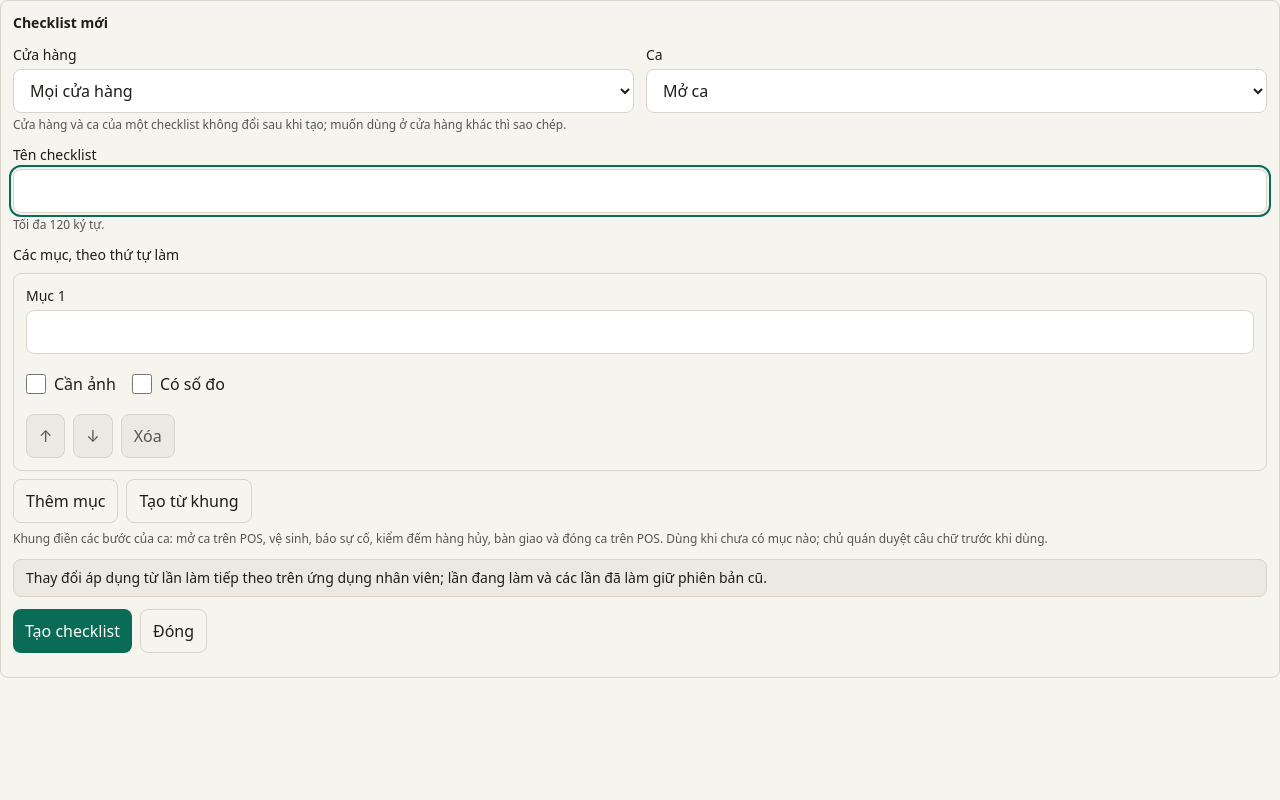
Test case: the checklist editor › shows what is missing after a submit and sends nothing
Click the button "Tạo checklist" at (72, 631), box [13,609,132,653]
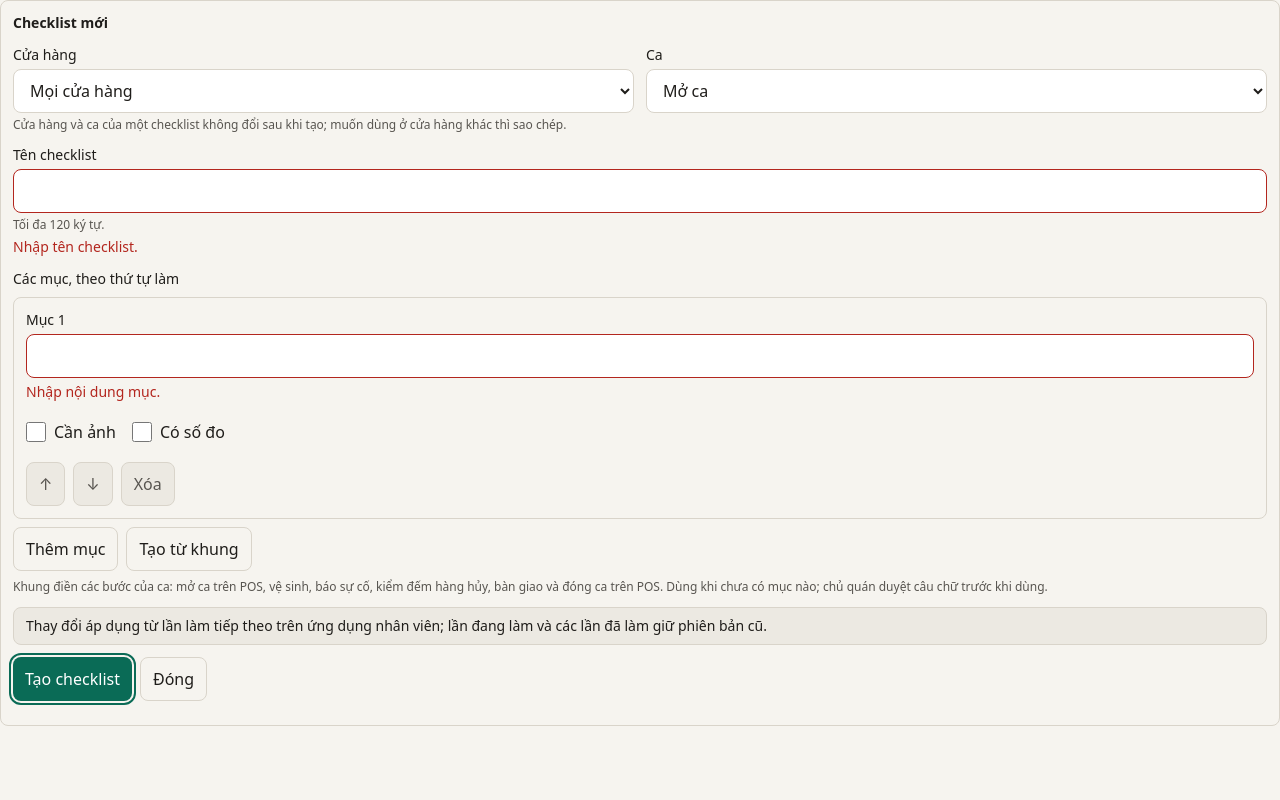
Check: the text "Nhập tên checklist." is shown, box [13,237,138,256]
Check: the text "Nhập nội dung mục." is shown, box [26,382,160,401]
